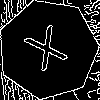X: (23, 24, 75, 81)
